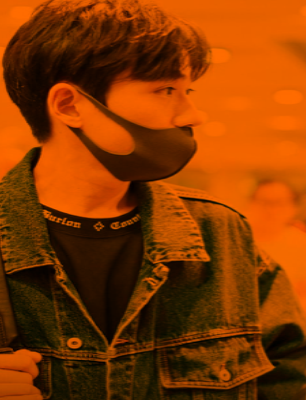mask_weared_incorrect: (89, 72, 203, 182)
